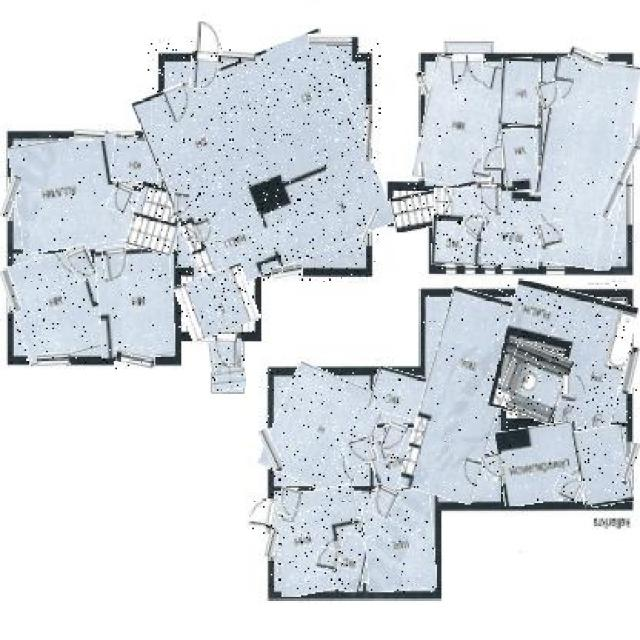door: (191, 20, 220, 89), (343, 437, 377, 468), (452, 55, 483, 88), (68, 244, 94, 282), (250, 500, 276, 534), (537, 220, 565, 249), (371, 485, 395, 517), (103, 246, 126, 279), (277, 488, 303, 517), (554, 475, 584, 500), (218, 334, 240, 368), (383, 421, 405, 454), (478, 184, 500, 216), (109, 183, 131, 214), (464, 215, 488, 243), (537, 82, 561, 109), (482, 455, 504, 480), (315, 548, 340, 570), (482, 145, 502, 172), (563, 375, 588, 394), (172, 192, 190, 215)
window: (611, 106, 640, 220), (116, 348, 156, 372), (263, 428, 282, 472), (623, 346, 639, 394), (3, 177, 19, 220), (3, 270, 19, 312), (569, 48, 605, 66), (625, 443, 637, 486), (37, 352, 71, 366), (272, 265, 303, 280), (364, 206, 376, 242), (308, 34, 349, 44), (222, 50, 258, 61), (265, 529, 277, 560), (366, 105, 372, 162), (74, 131, 105, 140), (417, 71, 428, 94), (120, 131, 134, 143), (420, 161, 426, 177)
zone: (148, 43, 380, 282), (411, 291, 514, 503), (532, 59, 632, 268), (496, 284, 632, 428), (12, 135, 132, 251), (266, 370, 380, 492), (418, 57, 508, 188), (9, 249, 109, 363), (269, 488, 368, 594), (97, 246, 174, 359), (432, 189, 538, 269), (363, 488, 437, 592), (497, 423, 585, 505), (177, 269, 257, 337), (502, 345, 569, 420), (391, 183, 500, 228), (575, 426, 631, 506), (368, 428, 440, 489), (128, 183, 184, 254), (369, 369, 425, 418), (500, 59, 540, 126), (112, 135, 162, 183), (501, 129, 537, 191), (335, 534, 368, 591), (209, 340, 245, 391)
